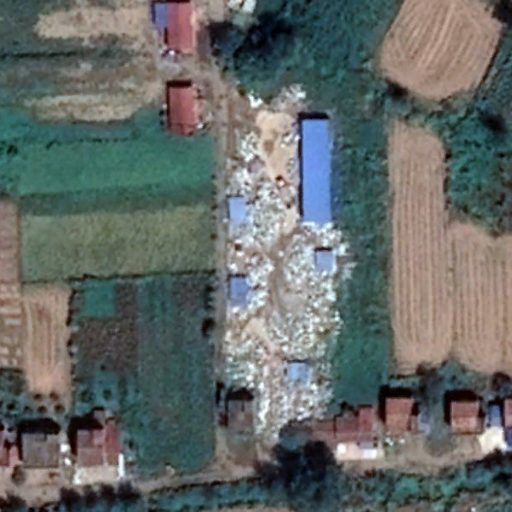msw: (222, 109, 348, 430)
